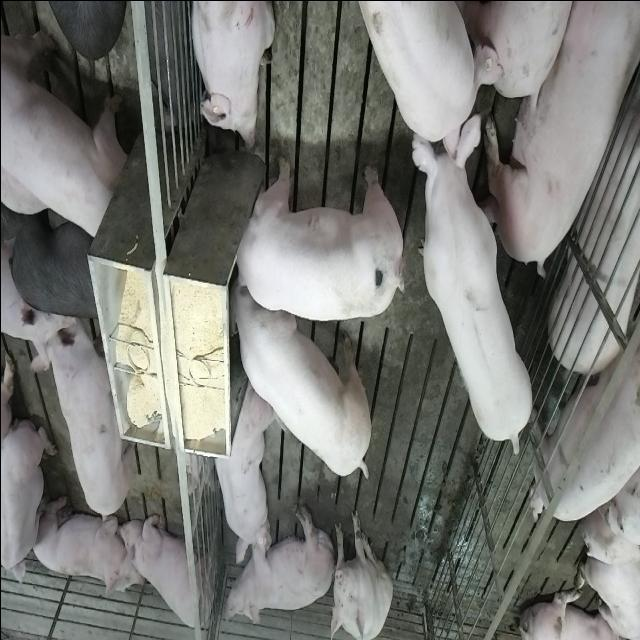Feeding: (228, 276, 376, 480), (224, 154, 398, 322)
Lateral_lying: (482, 0, 636, 273), (224, 498, 336, 624)
Sitting: (329, 506, 392, 638)
Standing: (412, 102, 535, 452), (550, 29, 640, 372), (1, 26, 126, 244), (531, 314, 640, 527), (30, 310, 130, 530), (355, 0, 494, 147), (4, 198, 98, 323)
Sternal_lying: (188, 0, 274, 151), (209, 380, 273, 568), (30, 494, 132, 598), (3, 415, 57, 595)
